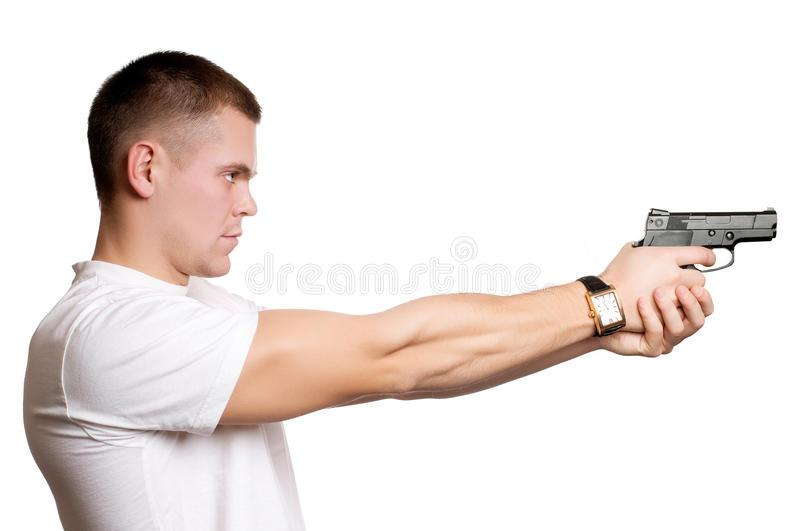criminal: (22, 50, 781, 531)
weapon: (628, 202, 781, 282)
